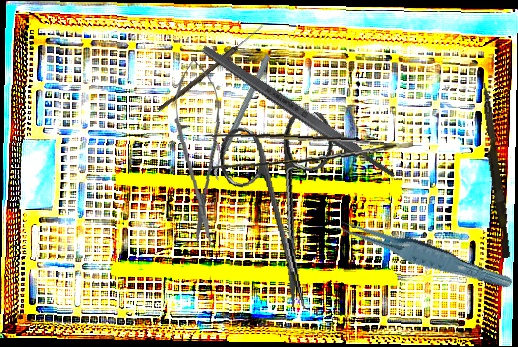Chopper: (175, 52, 310, 183)
Iris Scissors: (215, 110, 358, 319)
Micro Scissor: (171, 56, 227, 246)
Pusher: (474, 82, 516, 259)
Scalpel Handle: (199, 41, 399, 183)
Surgical Spoon: (157, 22, 265, 115)
Tissue Forceps: (330, 204, 514, 302), (196, 127, 414, 183)
